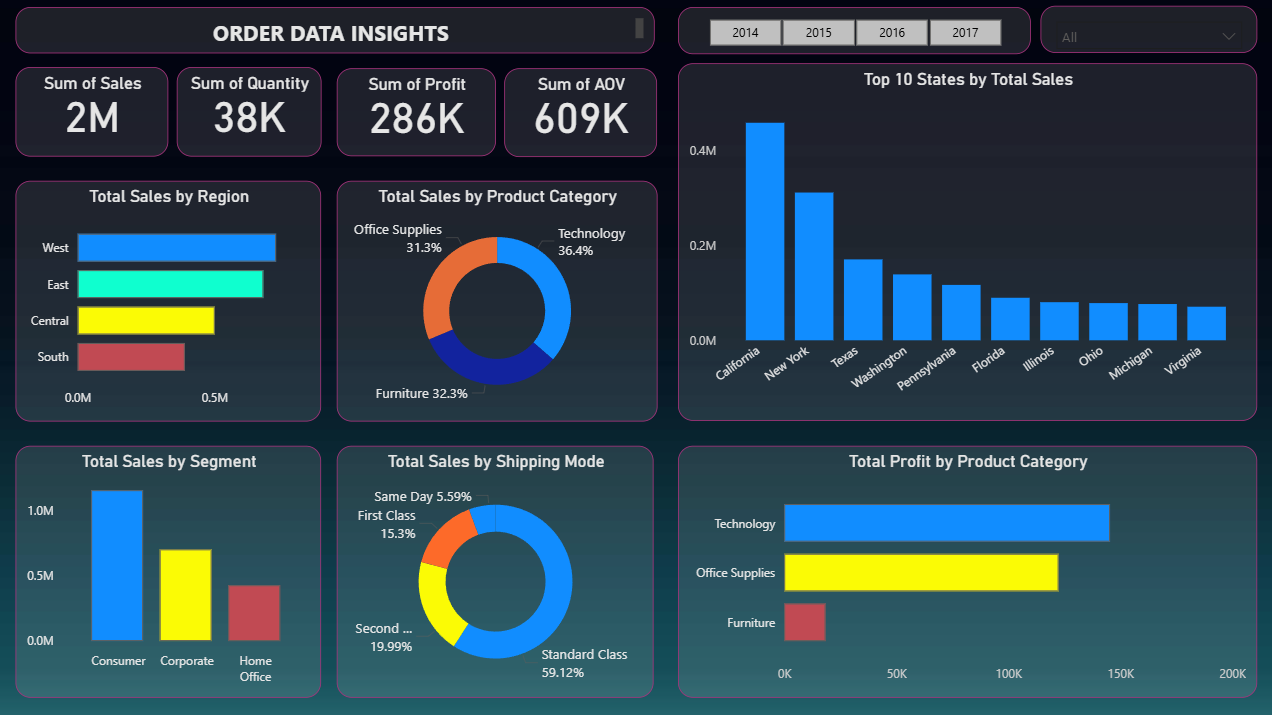

This screenshot's page, from the dashboard's own definition file:
{"tool":"powerbi","page":{"name":"Duplicate of Page 1","canvas":[1280,720],"ordinal":1},"visuals":[{"type":"textbox","box":[17.8,9.5,638.8,46.4],"z":0},{"type":"columnChart","title":"Top 10 States by Total Sales","fields":{"Y":["Sum(Sheet1.Sales (US $))"],"Category":["Sheet1.State"]},"box":[679.9,66.7,579,357.8],"z":1000},{"type":"barChart","title":"Total Profit by Product Category","fields":{"Category":["Sheet1.Category"],"Y":["Sum(Sheet1.Profit (US $))"]},"box":[679.9,448.9,579,252.1],"z":2000},{"type":"donutChart","title":"Total Sales by Product Category","fields":{"Category":["Sheet1.Category"],"Y":["Sum(Sheet1.Sales (US $))"]},"box":[338.3,183.8,320.4,240.7],"z":3000},{"type":"donutChart","title":"Total Sales by Shipping Mode","fields":{"Category":["Sheet1.Ship Mode"],"Y":["Sum(Sheet1.Sales (US $))"]},"box":[338.3,448.9,317.2,252.1],"z":4000},{"type":"barChart","title":"Total Sales by Region","fields":{"Category":["Sheet1.Region"],"Y":["Sum(Sheet1.Sales (US $))"]},"box":[17.9,183.8,305.8,240.7],"z":5000},{"type":"columnChart","title":"Total Sales by Segment","fields":{"Category":["Sheet1.Segment"],"Y":["Sum(Sheet1.Sales (US $))"]},"box":[17.9,448.9,305.8,252.1],"z":6000},{"type":"card","title":"Sum of Sales","fields":{"Values":["Sum(Sheet1.Sales (US $))"]},"box":[17.9,69.9,152.9,89.5],"z":7000},{"type":"card","title":"Sum of Quantity","fields":{"Values":["Sum(Sheet1.Quantity)"]},"box":[178.9,69.9,144.8,89.5],"z":8000},{"type":"card","title":"Sum of Profit","fields":{"Values":["Sum(Sheet1.Profit (US $))"]},"box":[338.3,71.6,159.4,87.8],"z":9000},{"type":"card","title":"Sum of AOV","fields":{"Values":["Sum(Sheet1.AOV)"]},"box":[506.4,71.8,152.7,89.1],"z":10000},{"type":"slicer","fields":{"Values":["Sheet1.Order Date.Variation.Date Hierarchy.Year"]},"box":[679.9,9.8,353,47.2],"z":11000},{"type":"slicer","fields":{"Values":["Sheet1.Region"]},"box":[1042,9,217,47],"z":12000}]}

Visuals, with their boxes in screenshot pixels (x1, y1, x2, y2), scaled from the page's 1280x720 canvas onto the 1272x715 screenshot:
textbox: locate(18, 9, 652, 56)
"Top 10 States by Total Sales" columnChart: locate(676, 66, 1251, 422)
"Total Profit by Product Category" barChart: locate(676, 446, 1251, 696)
"Total Sales by Product Category" donutChart: locate(336, 183, 655, 422)
"Total Sales by Shipping Mode" donutChart: locate(336, 446, 651, 696)
"Total Sales by Region" barChart: locate(18, 183, 322, 422)
"Total Sales by Segment" columnChart: locate(18, 446, 322, 696)
"Sum of Sales" card: locate(18, 69, 170, 158)
"Sum of Quantity" card: locate(178, 69, 322, 158)
"Sum of Profit" card: locate(336, 71, 495, 158)
"Sum of AOV" card: locate(503, 71, 655, 160)
slicer - Sheet1.Order Date.Variation.Date Hierarchy.Year: locate(676, 10, 1026, 57)
slicer - Sheet1.Region: locate(1035, 9, 1251, 56)
